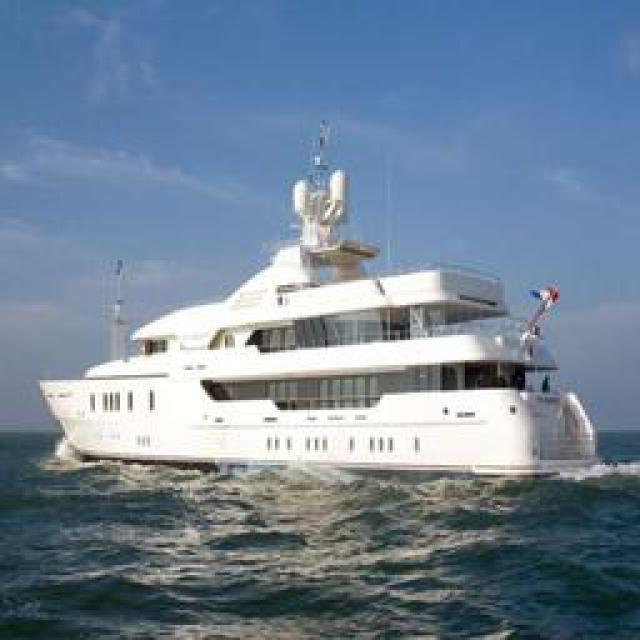Ship: (41, 202, 606, 480)
